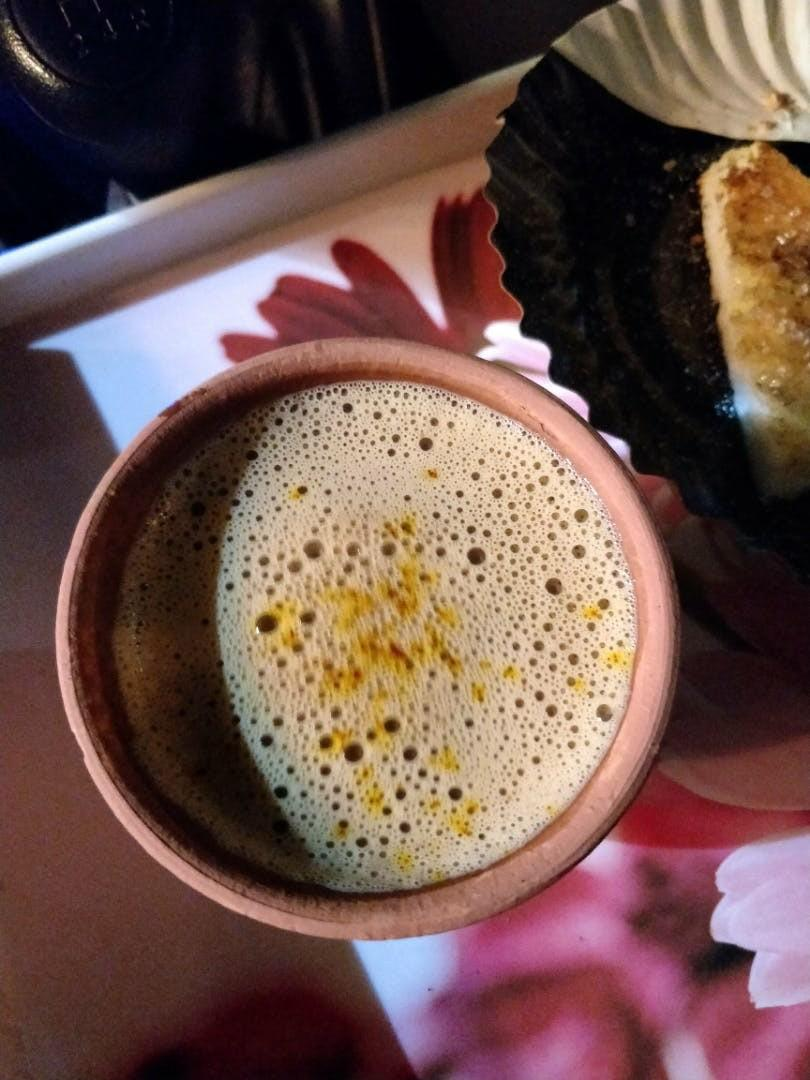Chai: (101, 382, 638, 897)
